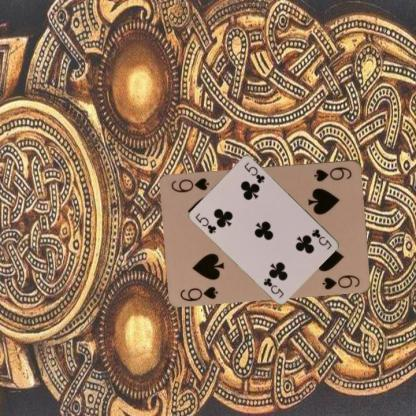5c: (193, 210, 218, 235), (309, 226, 333, 251)
6s: (311, 164, 353, 183), (178, 284, 220, 302)
